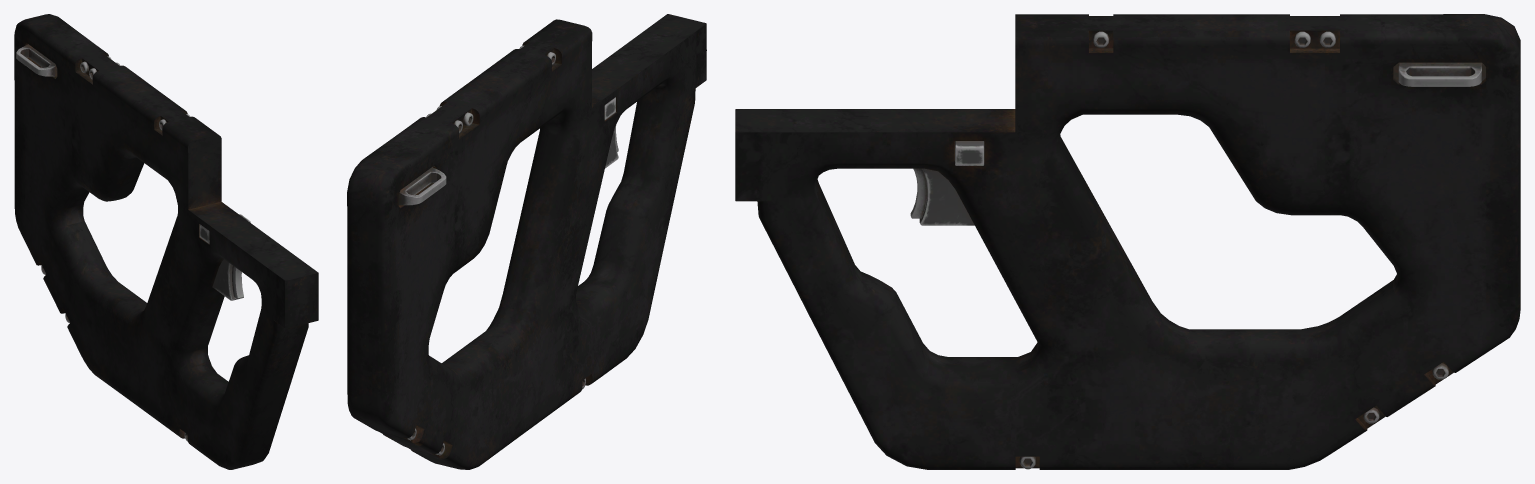
The model's file is Stock_SMG_1.glb.
3 views of the same model, side by side, from view 1: azimuth 30°, elevation 25°; view 2: azimuth 150°, elevation 25°; view 3: azimuth 270°, elevation 25° (orthographic). The views are drawn at different scales.
Parts seen in each view (by area): view 1: Stock_SMG_1; view 2: Stock_SMG_1; view 3: Stock_SMG_1.
Part boxes in pixels (x1,y1,x2,y2): Stock_SMG_1: (14, 14, 318, 469); Stock_SMG_1: (347, 14, 706, 469); Stock_SMG_1: (735, 14, 1520, 469).
Size of the model in its own units: 0.0398 by 0.1913 by 0.311.
Materials: 1 (1 with a texture image).
